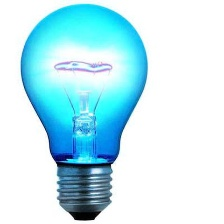light_bulb: (16, 0, 150, 222)
